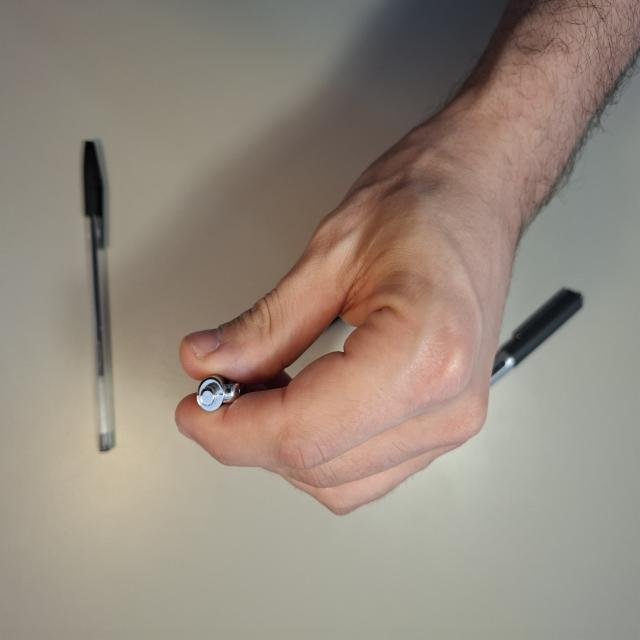glove_off: (173, 117, 537, 518)
